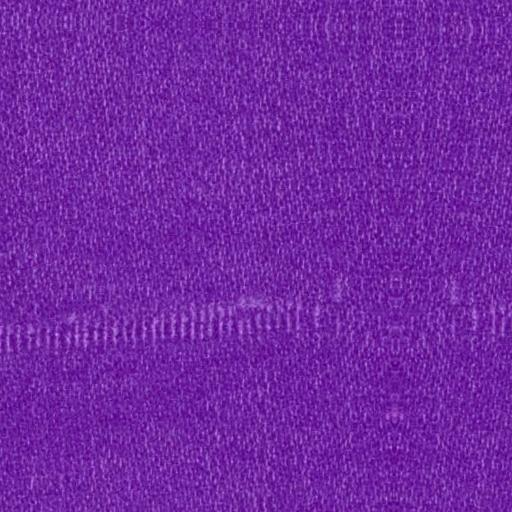slub: (3, 294, 342, 356)
